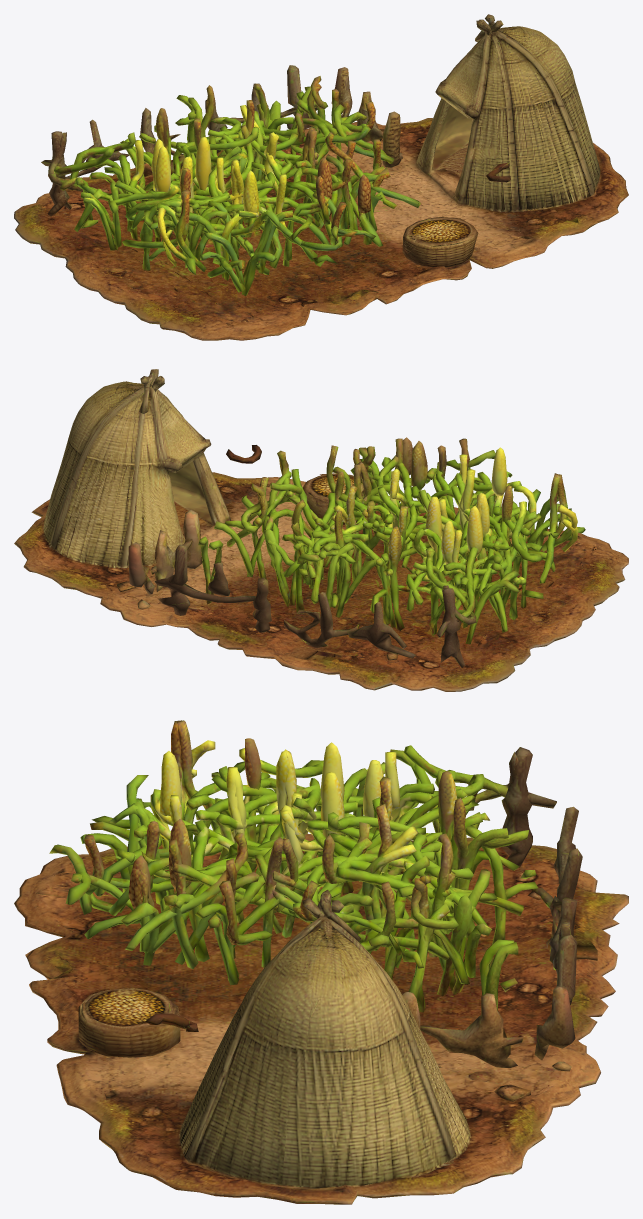
Rendered from Crop Field (West African).fbx.
3 renders of one model, top to bottom at view 1: azimuth 30°, elevation 25°; view 2: azimuth 150°, elevation 25°; view 3: azimuth 270°, elevation 25°, orthographic. The views are drawn at different scales.
Parts seen in each view (by area): view 1: Mesh_0; view 2: Mesh_0; view 3: Mesh_0.
Part boxes in pixels (bbox=[...]): Mesh_0: bbox=[14, 14, 628, 340]; Mesh_0: bbox=[14, 369, 628, 691]; Mesh_0: bbox=[14, 720, 628, 1204].
Bounding box in the file's own units: 187 × 55.58 × 130.
1 material, 1 textured.
